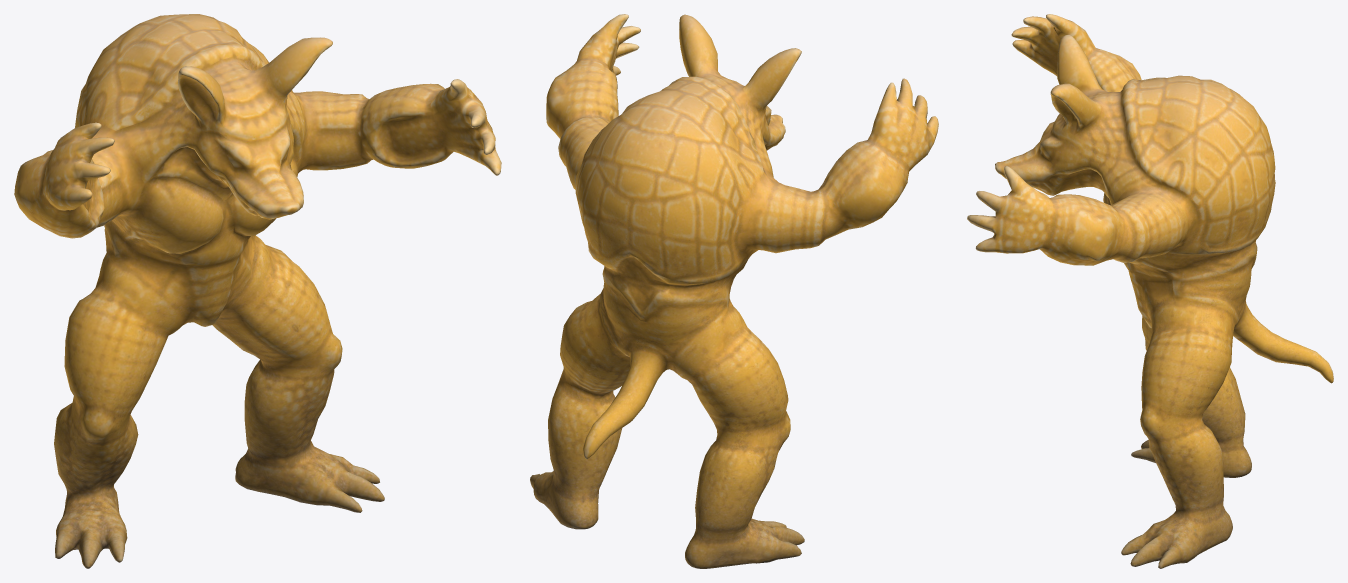
Rendered from Armadillo.gltf.
The picture shows the model from 3 angles, left to right: view 1: azimuth 30°, elevation 25°; view 2: azimuth 150°, elevation 25°; view 3: azimuth 270°, elevation 25°; orthographic projection. The views are drawn at different scales.
Parts seen in each view (by area): view 1: Armadillo_low; view 2: Armadillo_low; view 3: Armadillo_low.
Part boxes in pixels (left/top/right/bottom): Armadillo_low: left=14, top=14, right=501, bottom=568; Armadillo_low: left=530, top=14, right=938, bottom=568; Armadillo_low: left=967, top=14, right=1333, bottom=568.
Bounding box in the file's own units: 3 × 3.58 × 2.72.
Materials: 1 (1 with a texture image).
